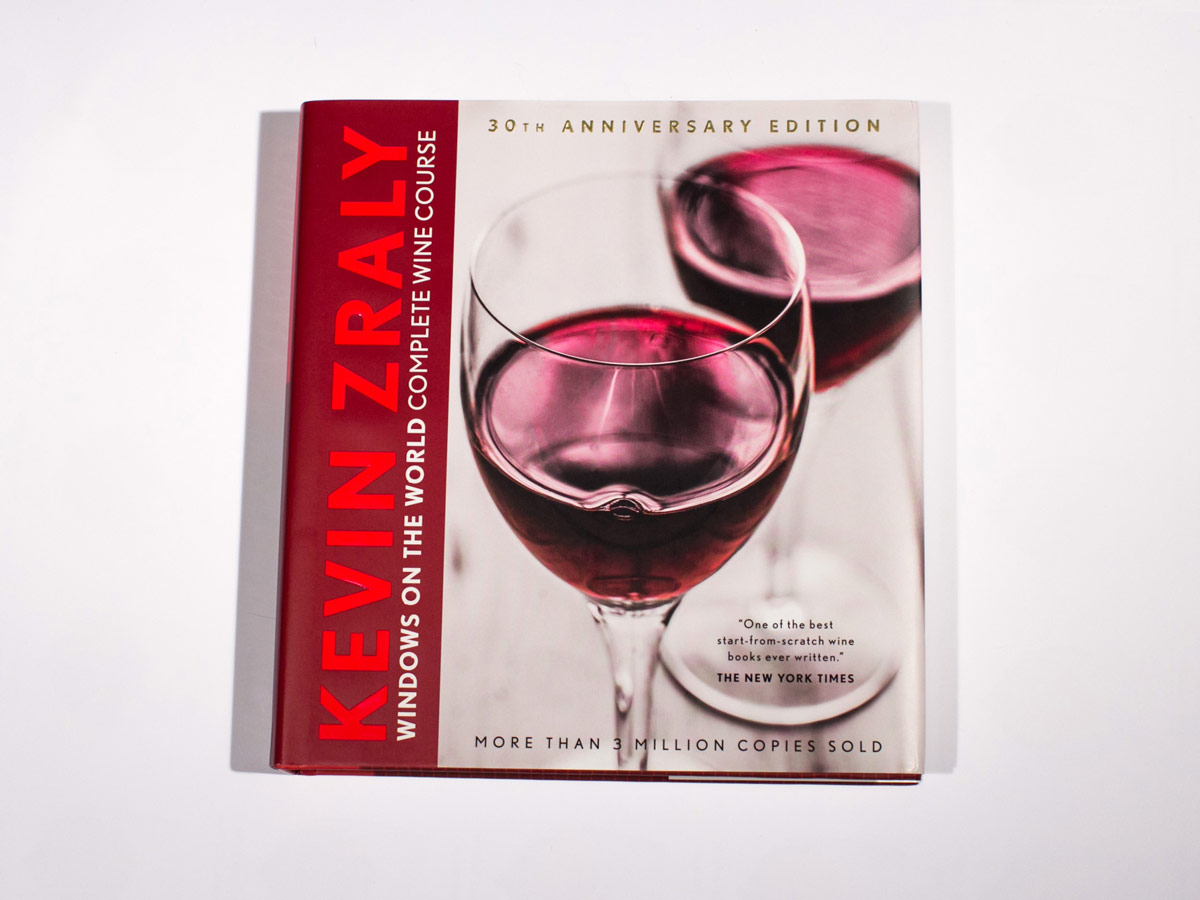book: (271, 97, 931, 792)
